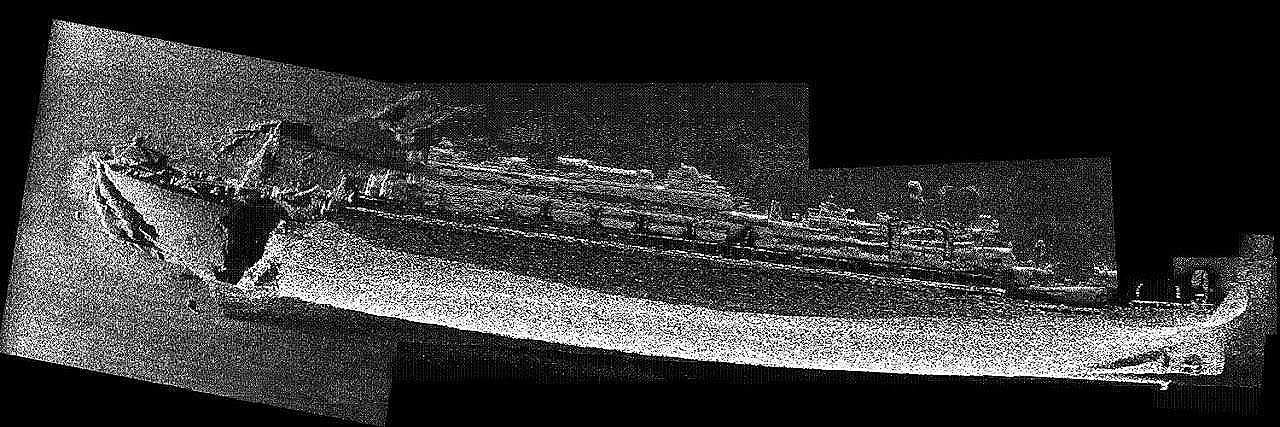ship: (87, 90, 1252, 395)
